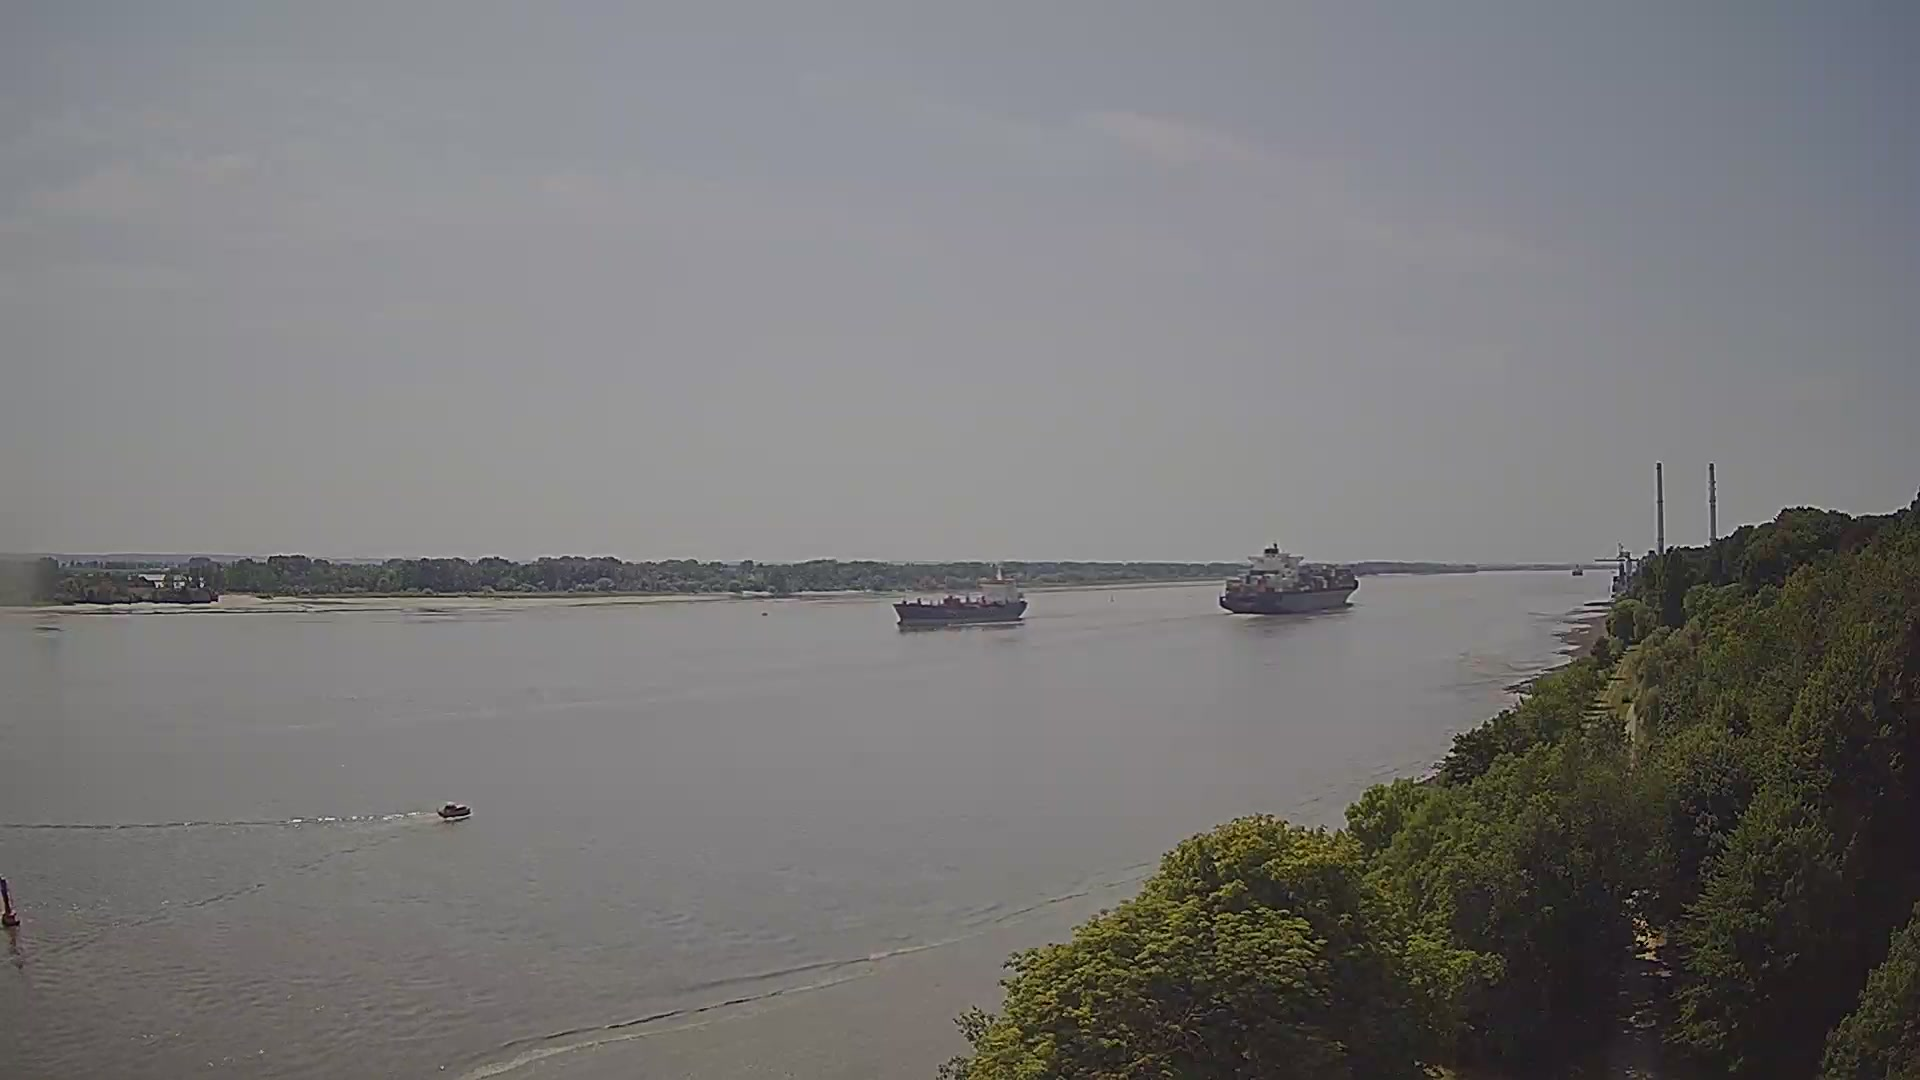sea: (1217, 539, 1360, 615), (891, 564, 1029, 622), (435, 800, 472, 818), (1571, 562, 1584, 576)
